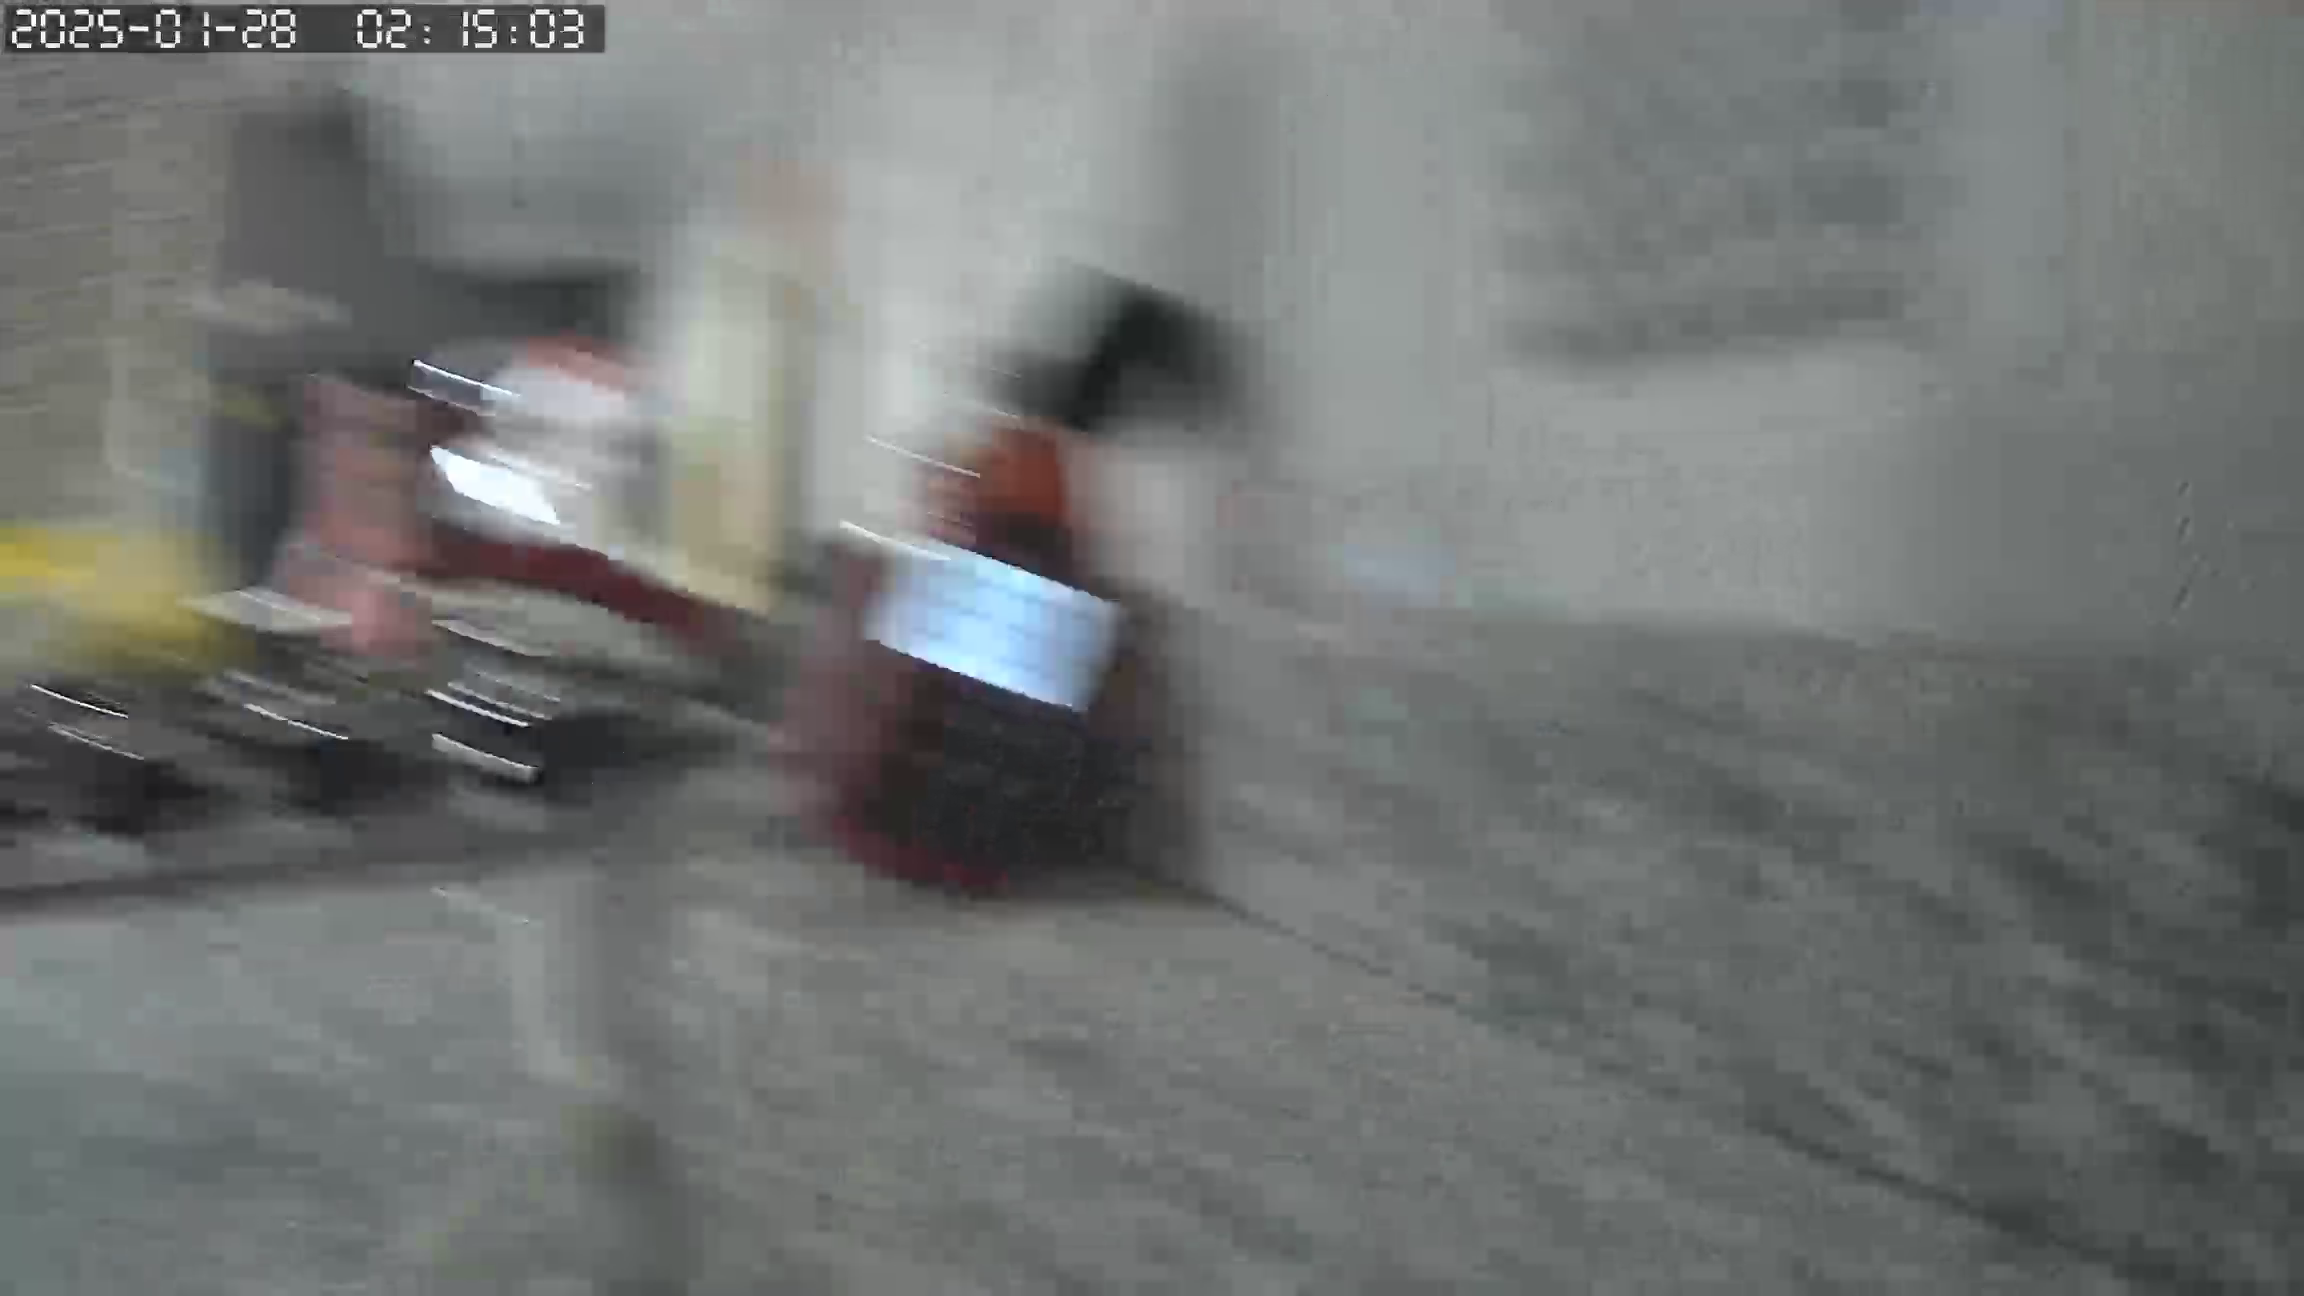screen: (904, 540, 1120, 715)
